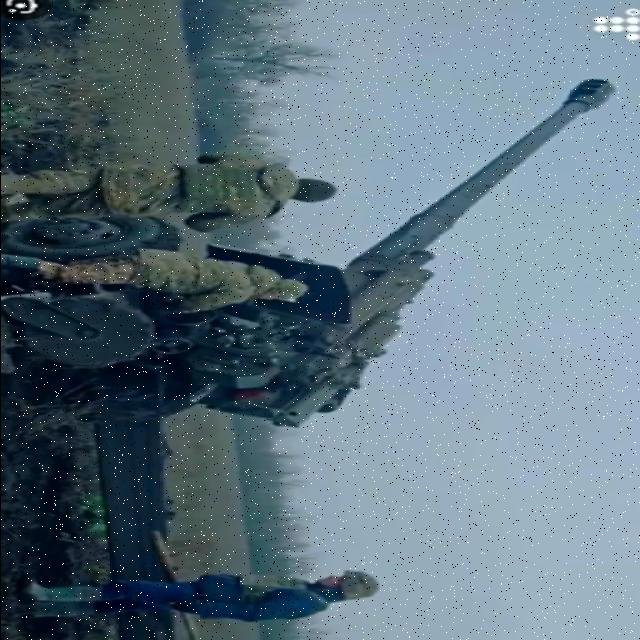ART: (3, 77, 617, 638)
